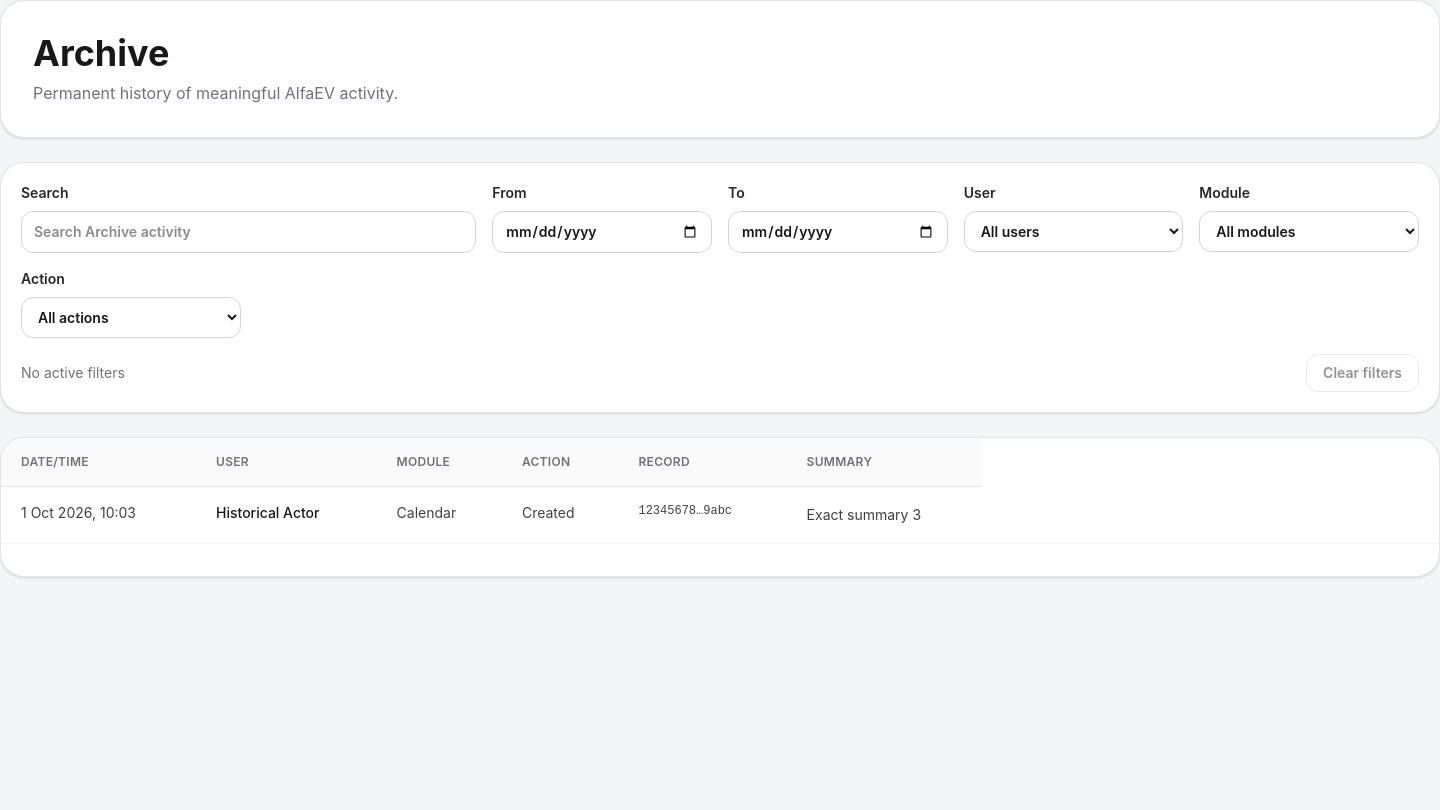
ArchivePage › keeps the list and filters intact when detail closes and retries detail separately
This screenshot has width=1440, height=810.
Select "Historical Actor" in the dropdown labelled "User" at (1074, 232), box [964,211,1183,252]
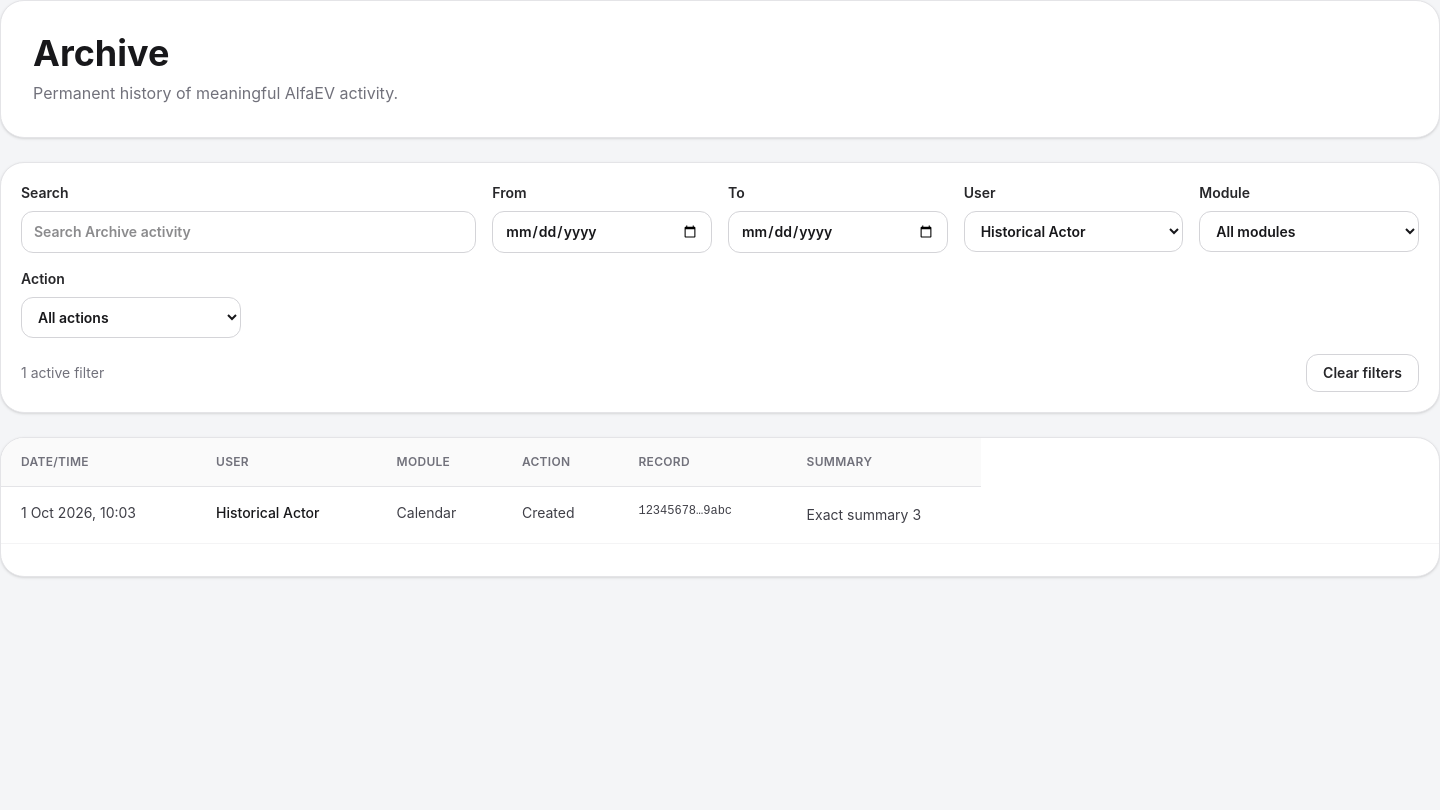
Click the row named "Open Archive detail: Exact summary 3" at (78, 512), box [1,486,981,543]
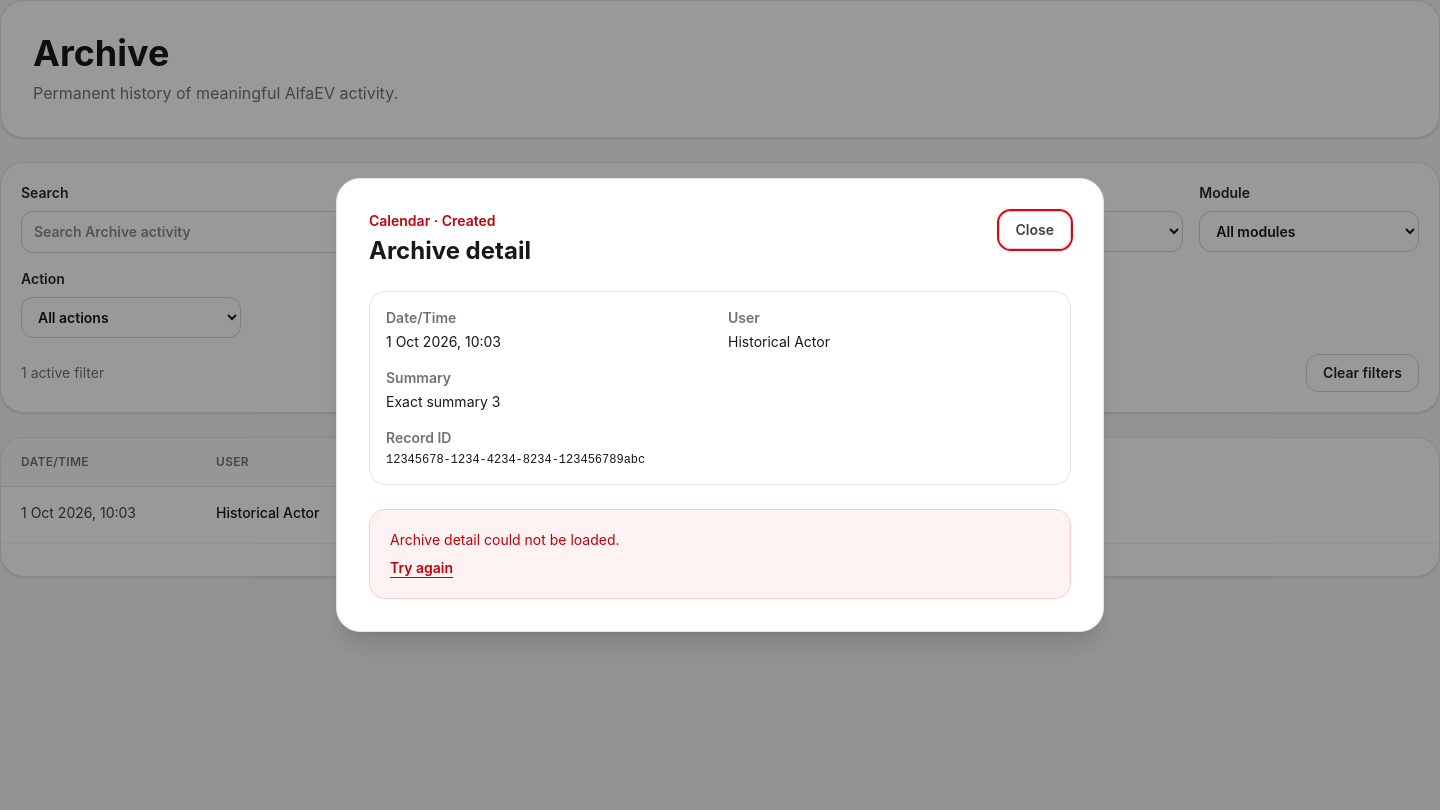
Now the message shows "Archive detail could not be loaded.", box [390,531,620,548]
Click the button "Try again" at (422, 568), box [390,558,453,578]
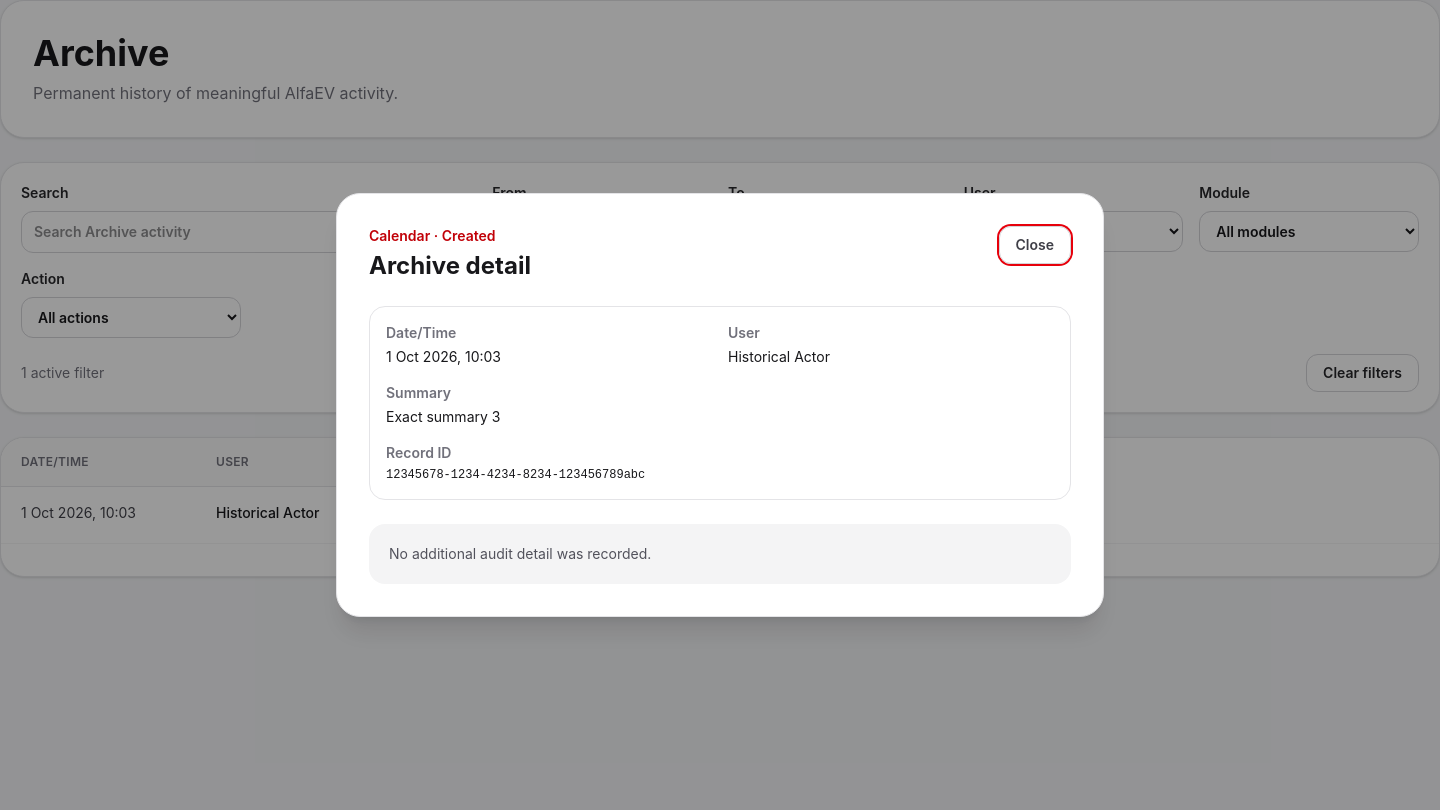
Now the text "No additional audit detail was recorded." is shown, box [369,524,1071,584]
Click the button "Close" at (1035, 245), box [998,226,1071,264]
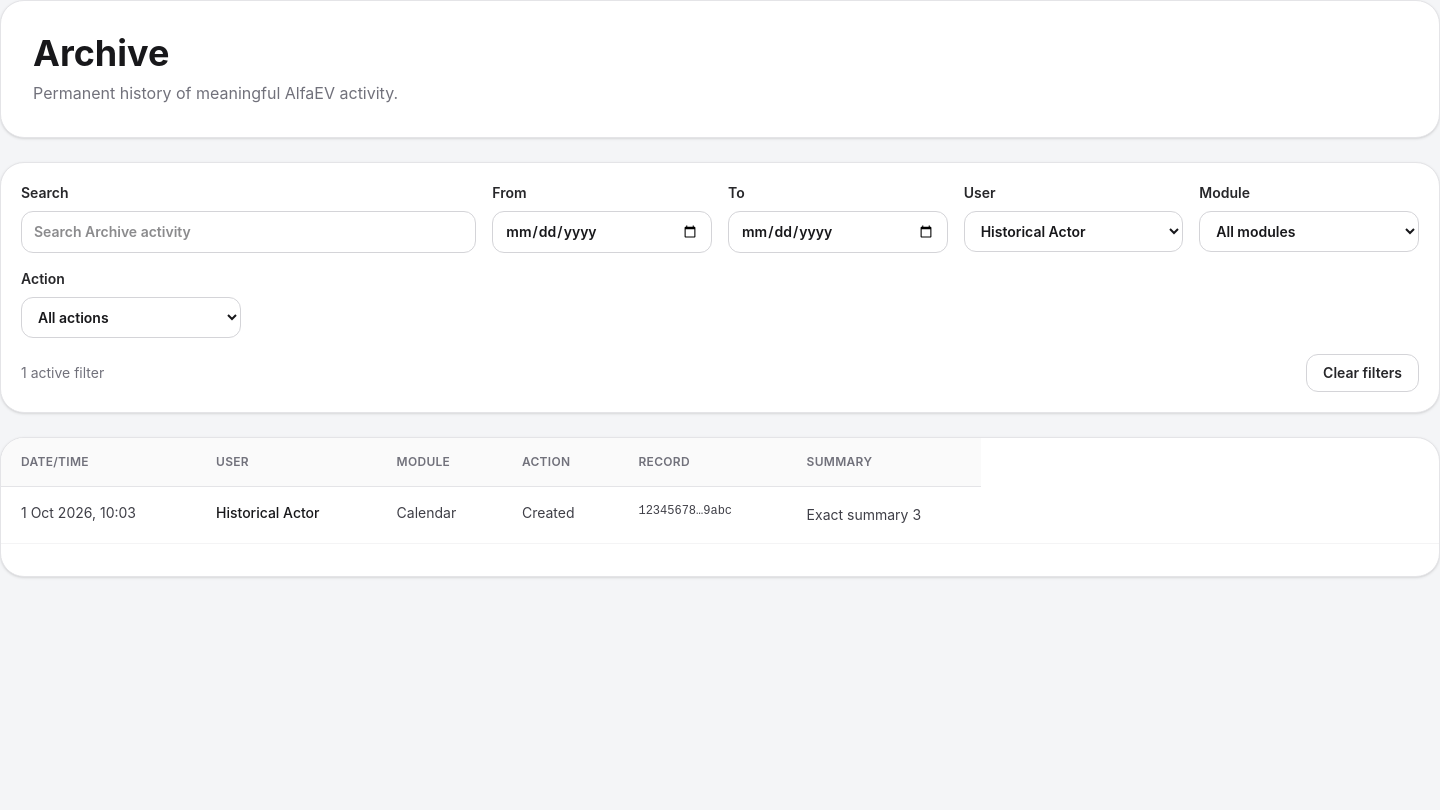
Now the dialog is gone
